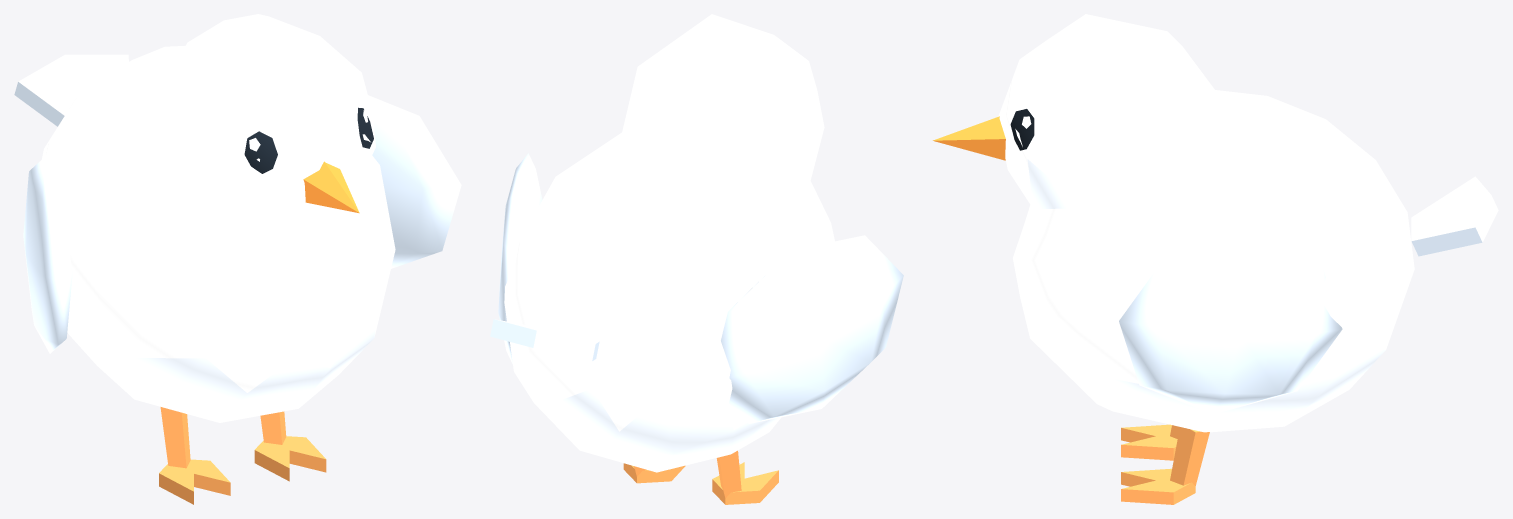
File: snowbird.glb
The picture shows the model from 3 angles, left to right: view 1: azimuth 30°, elevation 25°; view 2: azimuth 150°, elevation 25°; view 3: azimuth 270°, elevation 25°; orthographic projection. The views are drawn at different scales.
Parts seen in each view (by area): view 1: snowbird; view 2: snowbird; view 3: snowbird.
Boxes of the visible parts, <box> form: snowbird: <box>14,14,461,504</box>; snowbird: <box>490,14,903,504</box>; snowbird: <box>933,14,1498,504</box>.
Bounding box in the file's own units: 0.96 × 1.08 × 1.24.
